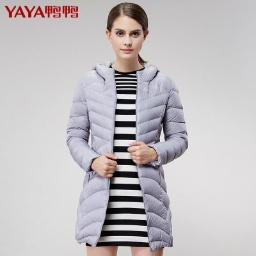face: (105, 3, 151, 61)
